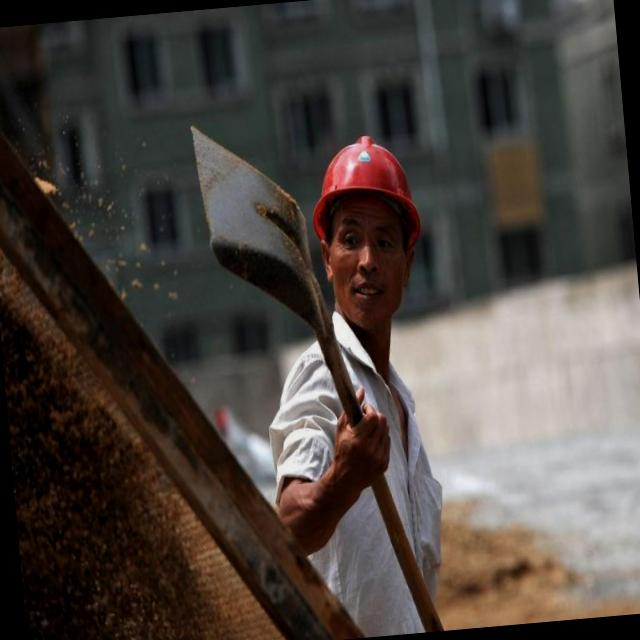helmet: (306, 136, 424, 214)
no-vest: (270, 314, 452, 610)
